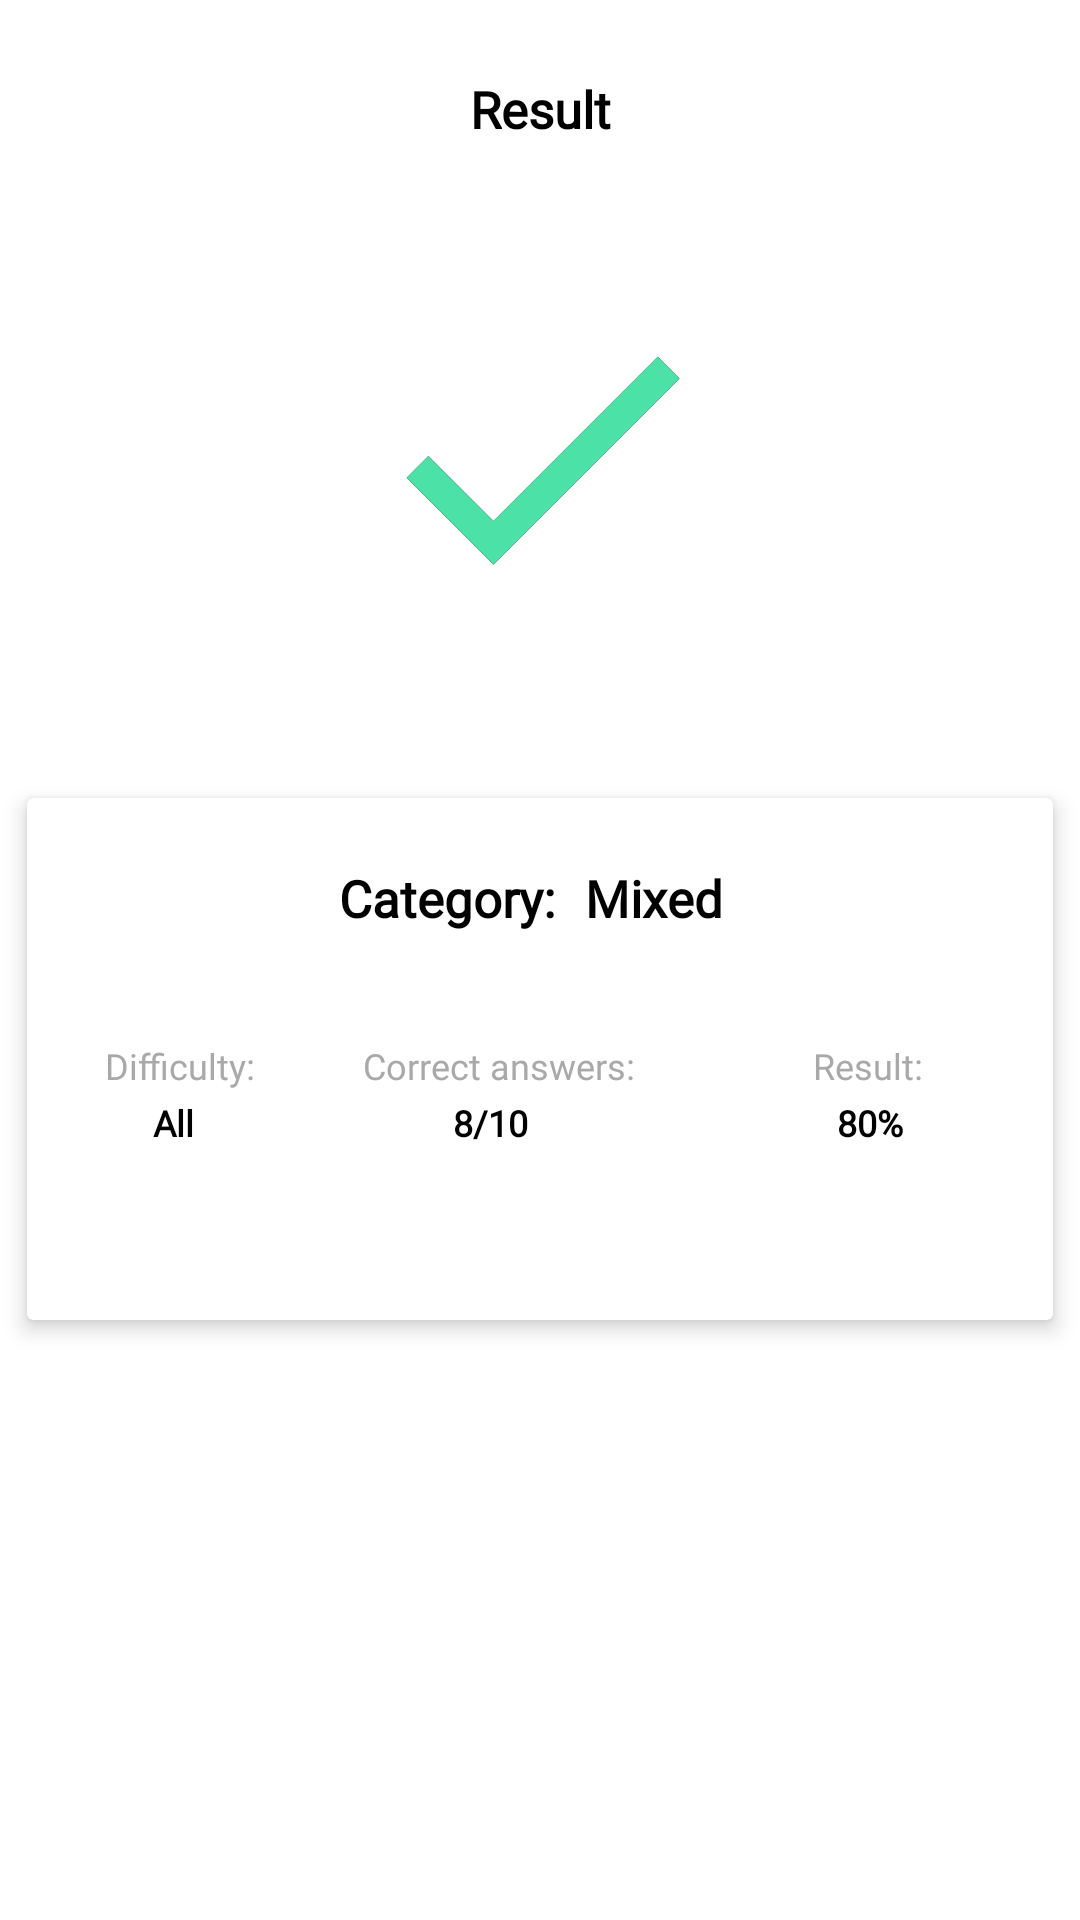

Icons on this 1080px×1920px Android screen, each with its box as (x1, y1, x2, y2):
done: (406, 356, 680, 565)
